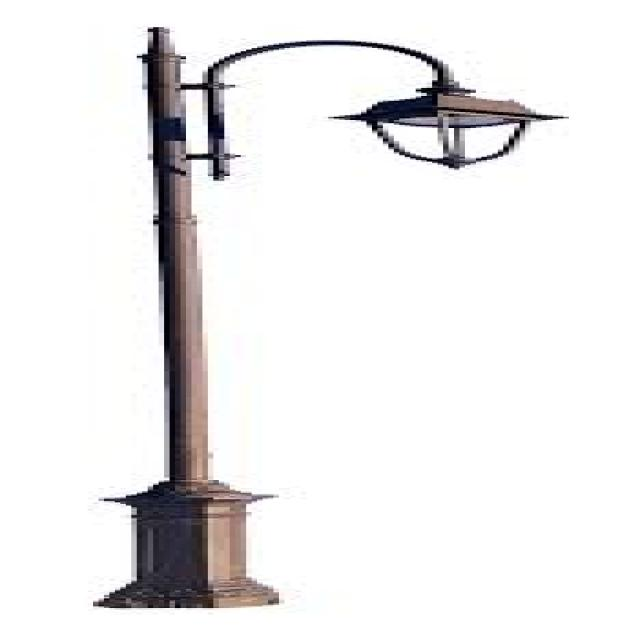Street Light: (87, 24, 558, 610)
